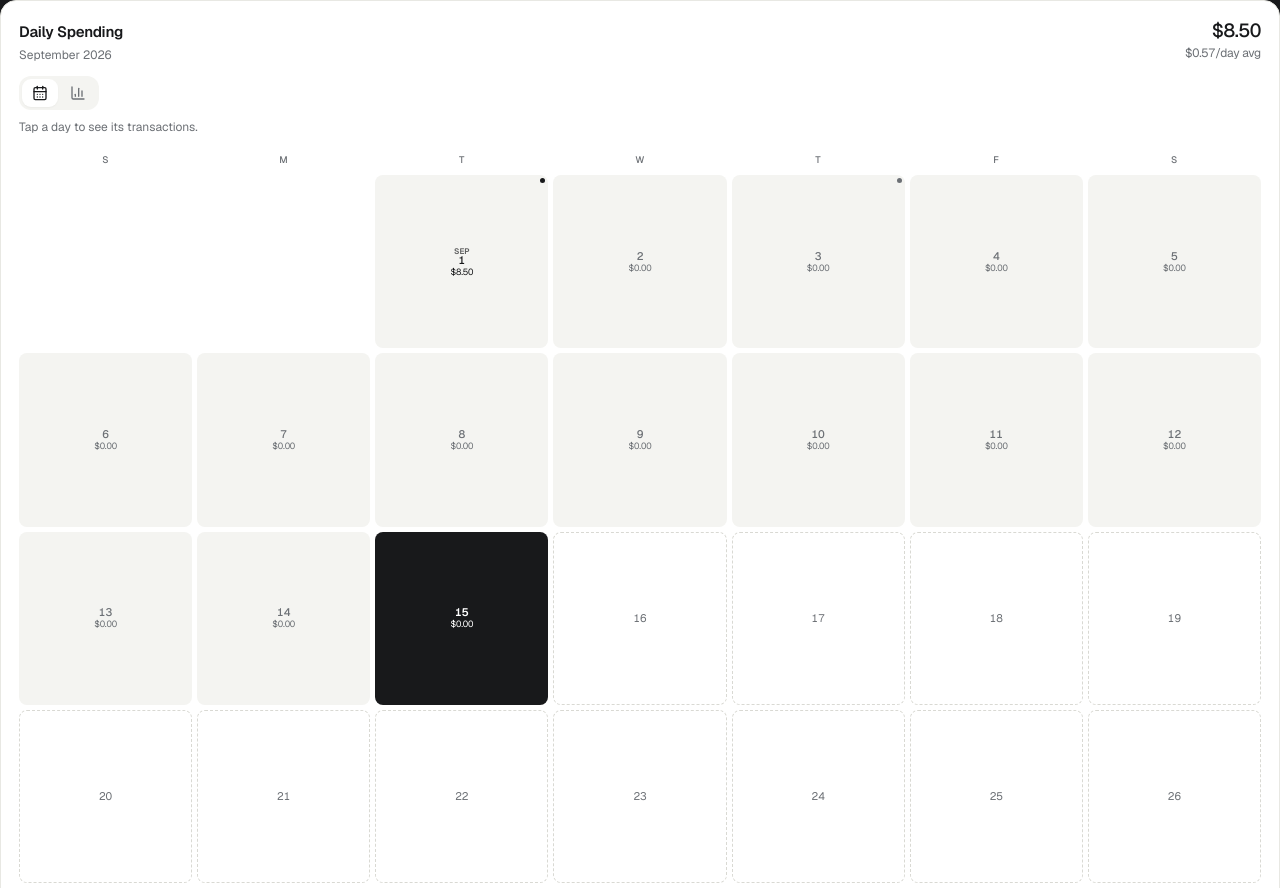
Test: income › opens an income-only day with no spending and its income listed
Click the button named "3 Sep: spent $0.00, income $30.00".
click(818, 262)  # box x1=732 y1=175 x2=905 y2=348
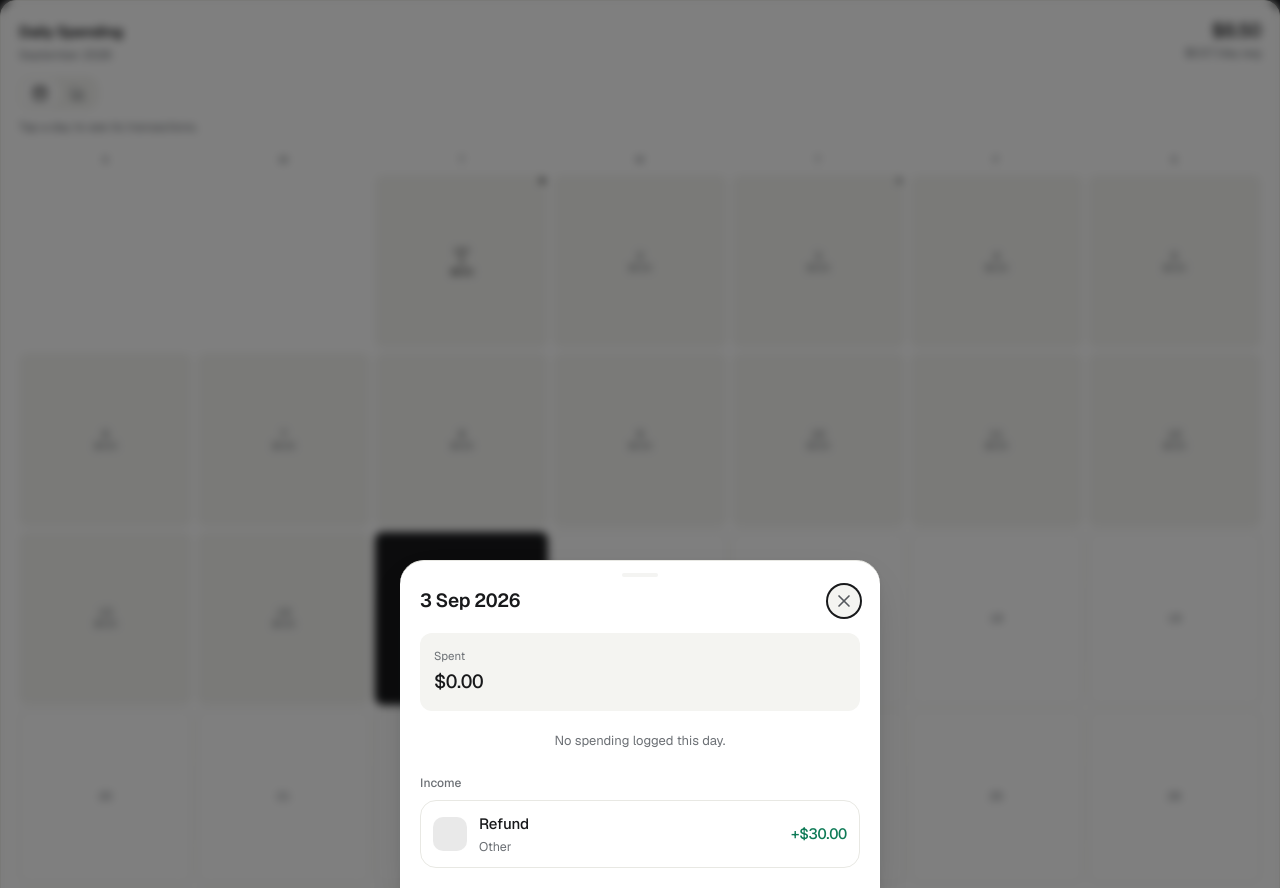
Expected: the text "No spending logged this day." is shown, x1=555 y1=732 x2=726 y2=748
Expected: the text "+$30.00" is shown, x1=791 y1=823 x2=847 y2=845
